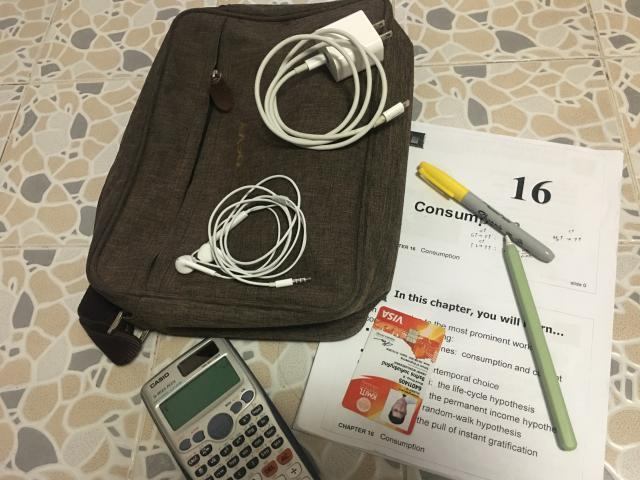Pen: (419, 161, 555, 262)
paper: (295, 118, 622, 478)
wire: (255, 10, 410, 150), (175, 175, 311, 288)
